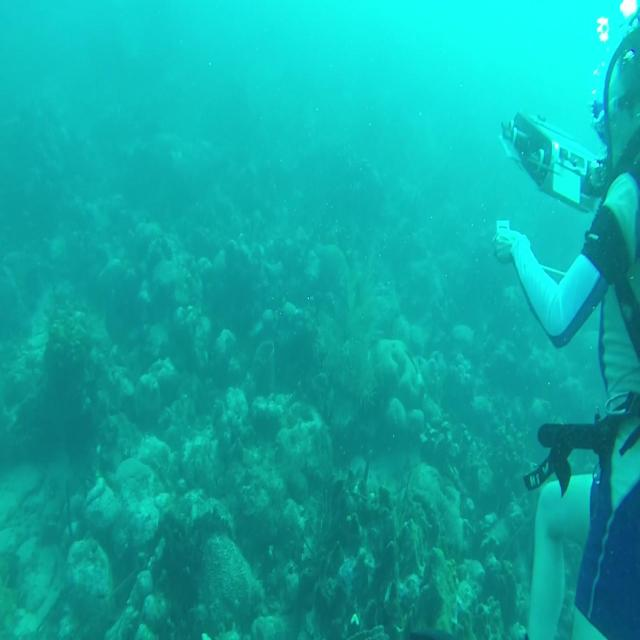human: (492, 9, 639, 638)
